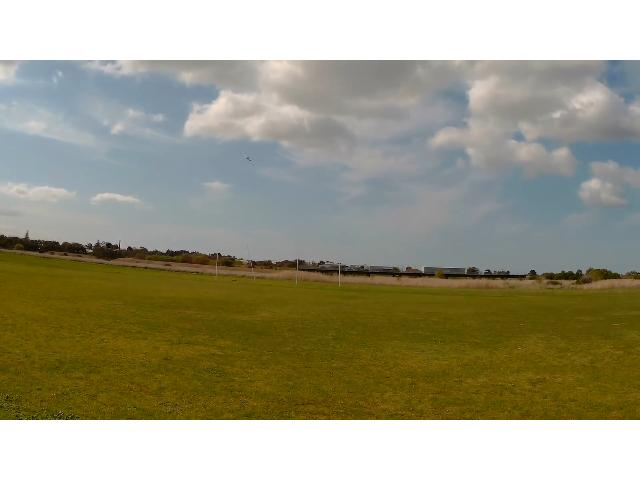Anti-Drone: (244, 154, 254, 166)
